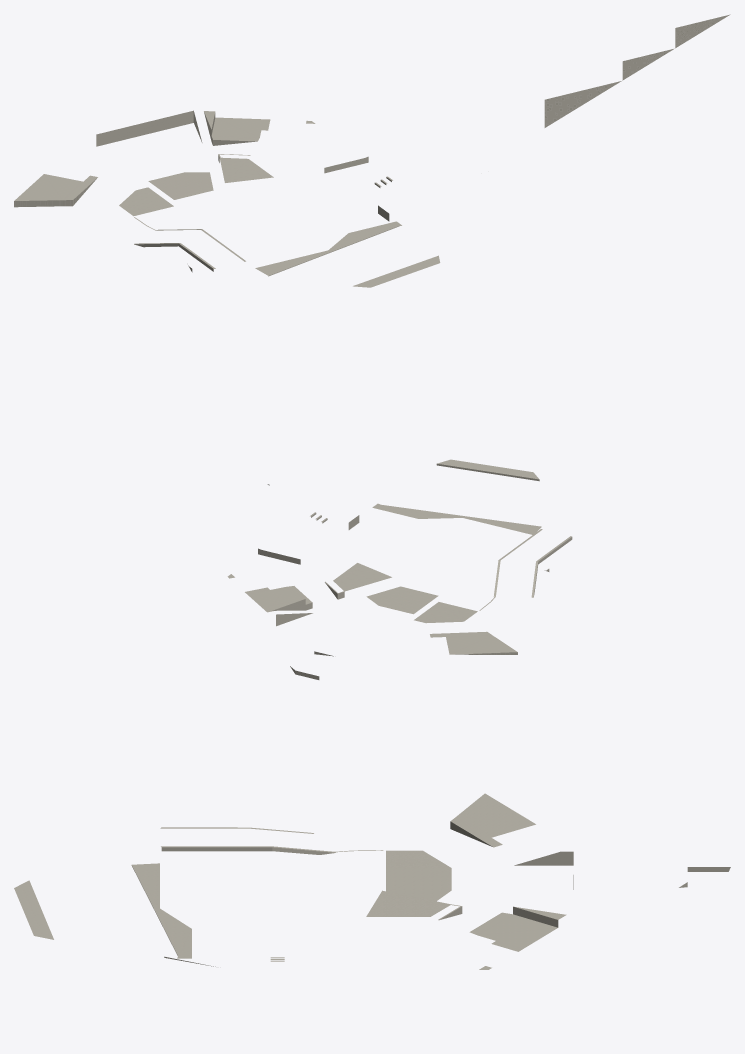
Rendered from kd_stage_136282_1_11.glb.
3 views of the same model, one above another, from view 1: azimuth 30°, elevation 25°; view 2: azimuth 150°, elevation 25°; view 3: azimuth 270°, elevation 25° (orthographic). The views are drawn at different scales.
Visible parts, largest first — view 1: kd_stage_136282_1_11; view 2: kd_stage_136282_1_11; view 3: kd_stage_136282_1_11.
Part boxes in pixels (x1=…): kd_stage_136282_1_11: x1=14, y1=14, x2=730, y2=287; kd_stage_136282_1_11: x1=227, y1=459, x2=572, y2=679; kd_stage_136282_1_11: x1=14, y1=793, x2=730, y2=969.
Size of the model in its own units: 74.07 by 11.7 by 50.33.
1 material, 1 textured.
